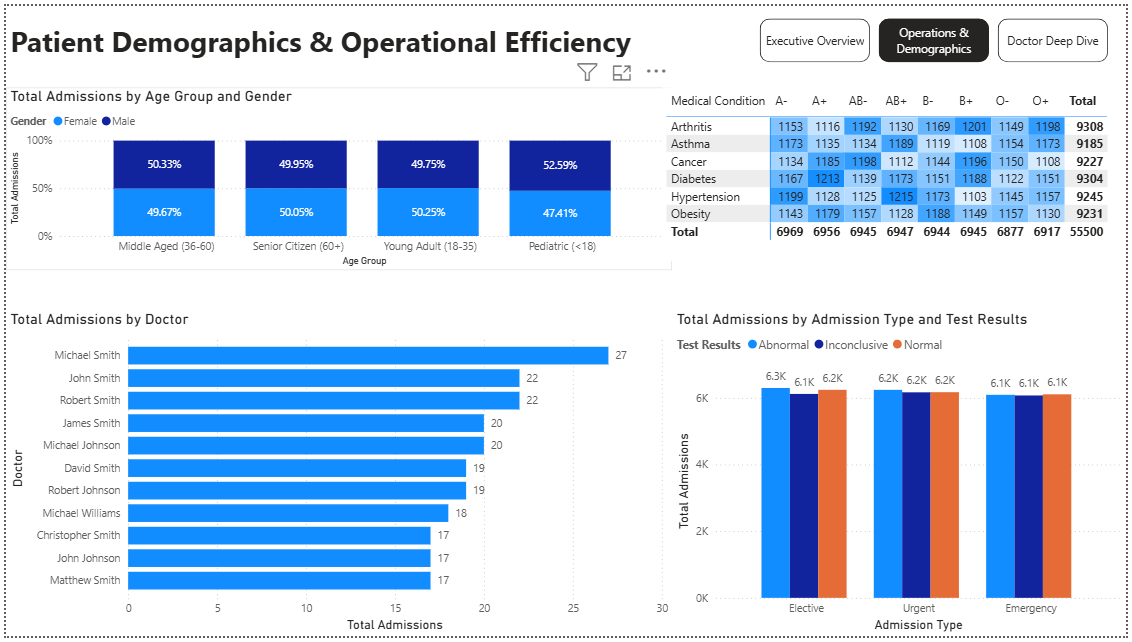

The dashboard page shown, as its layout file describes it:
{"tool":"powerbi","page":{"name":"Operations & Demographics","canvas":[1280,720],"ordinal":1},"visuals":[{"type":"textbox","box":[0,13.3,761.7,56.7],"z":0},{"type":"hundredPercentStackedColumnChart","fields":{"Category":["healthcare_dataset.Age Group"],"Y":["_Key Measures.Total Admissions"],"Series":["healthcare_dataset.Gender"]},"box":[0,93.3,761.7,210],"z":1000},{"type":"clusteredBarChart","fields":{"Category":["healthcare_dataset.Doctor"],"Y":["_Key Measures.Total Admissions"]},"box":[0,346.7,761.7,373.3],"z":2000},{"type":"pivotTable","fields":{"Rows":["healthcare_dataset.Medical Condition"],"Columns":["healthcare_dataset.Blood Type"],"Values":["_Key Measures.Total Admissions"]},"box":[750,93.3,530,198.3],"z":3000},{"type":"clusteredColumnChart","fields":{"Category":["healthcare_dataset.Admission Type"],"Y":["_Key Measures.Total Admissions"],"Series":["healthcare_dataset.Test Results"]},"box":[762,347,518,373],"z":4000},{"type":"pageNavigator","box":[862,14,400,50],"z":5000}]}

Visuals, with their boxes in screenshot pixels (x1, y1, x2, y2), scaled from the page's 1280x720 canvas onto the 1132x642 screenshot:
textbox: <box>0,12,674,62</box>
hundredPercentStackedColumnChart - healthcare_dataset.Age Group x _Key Measures.Total Admissions: <box>0,83,674,270</box>
clusteredBarChart - healthcare_dataset.Doctor x _Key Measures.Total Admissions: <box>0,309,674,641</box>
pivotTable - healthcare_dataset.Medical Condition x healthcare_dataset.Blood Type: <box>663,83,1131,260</box>
clusteredColumnChart - healthcare_dataset.Admission Type x _Key Measures.Total Admissions: <box>674,309,1131,641</box>
pageNavigator: <box>762,12,1116,57</box>
